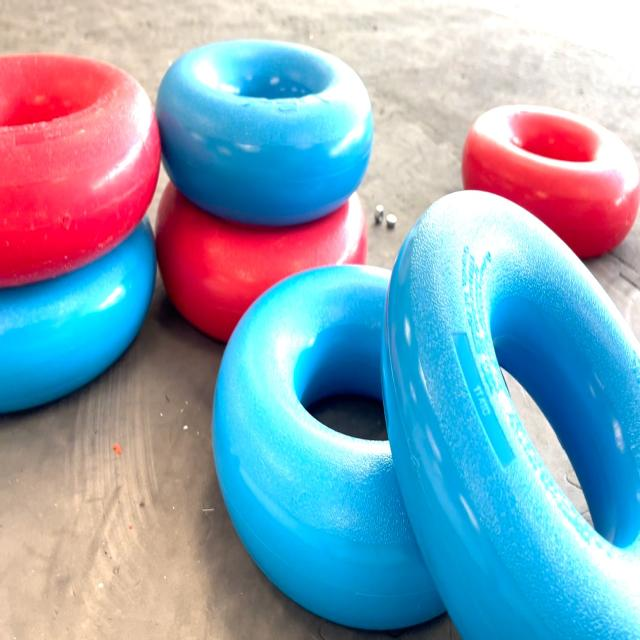Blue-Ring: (382, 191, 640, 638), (212, 267, 444, 629), (156, 40, 372, 227), (0, 218, 156, 412)
Red-Ring: (0, 53, 160, 286), (156, 182, 368, 342), (461, 104, 640, 258)
